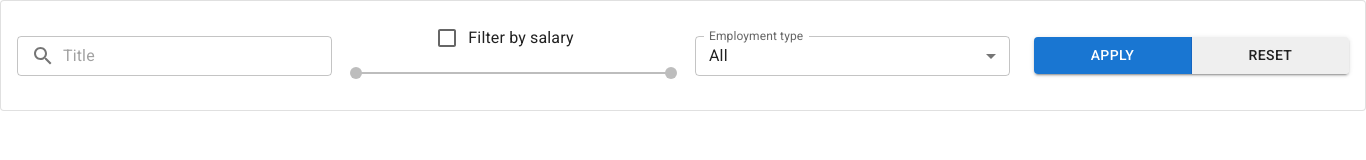
Scenario: JobPostFilters › should clear the search input when clicking clear icon
Type "Frontend" into the field with placeholder "Title". click: (198, 56)
box: [63,36,332,76]
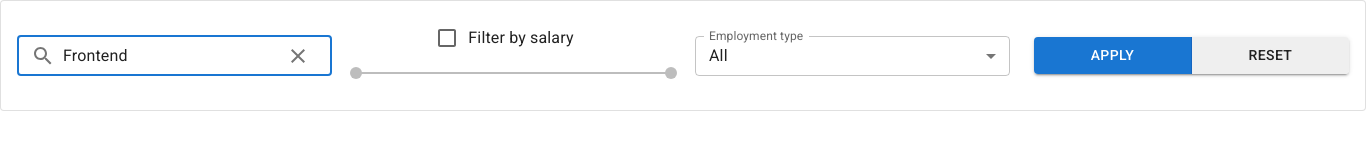
Click the button named "clear". click: (298, 56)
box: [278,36,318,76]
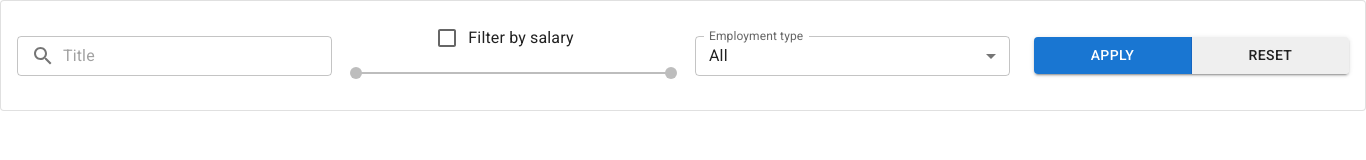
Now the field with placeholder "Title" is empty, box [63,36,332,76]
